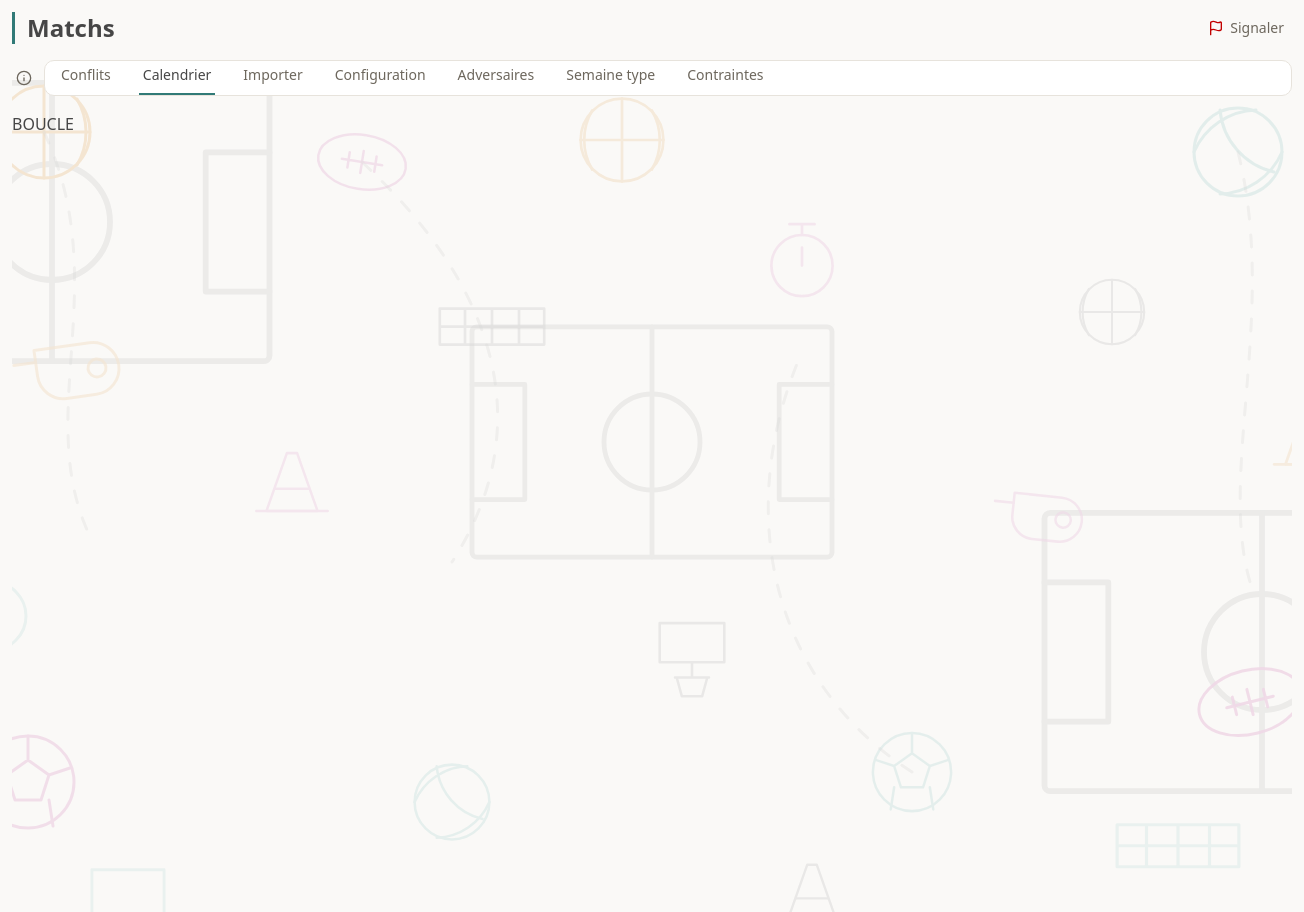
MatchesLayout (RMM-1 PR2 — deux espaces) › porte l'onglet « Semaine type » et rend sa page (PR 2a)
Step 1. Click the link "Semaine type" → (611, 74), box left=566, top=65, right=655, bottom=84
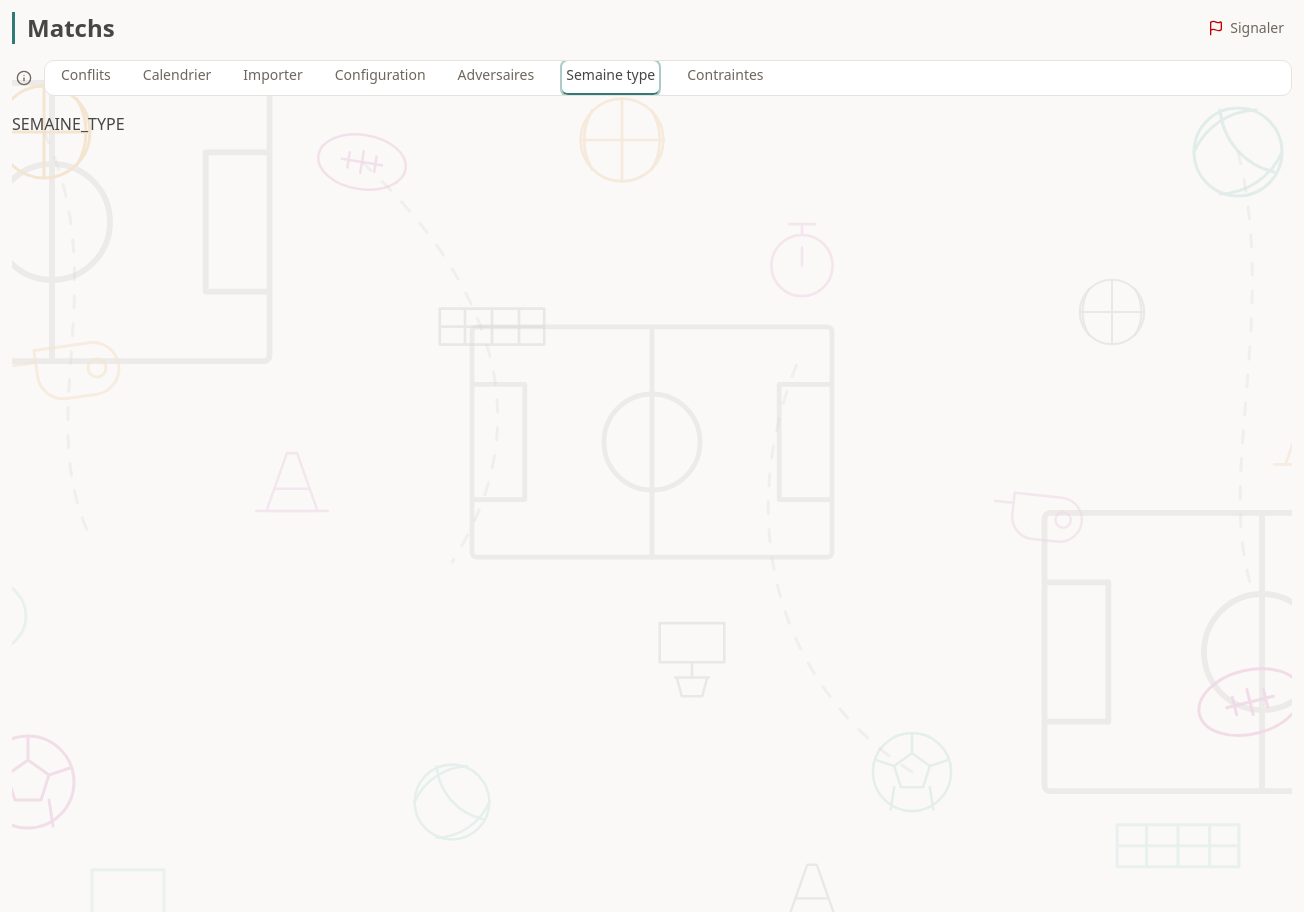
Expected: the text "SEMAINE_TYPE" is shown, left=12, top=113, right=124, bottom=135
